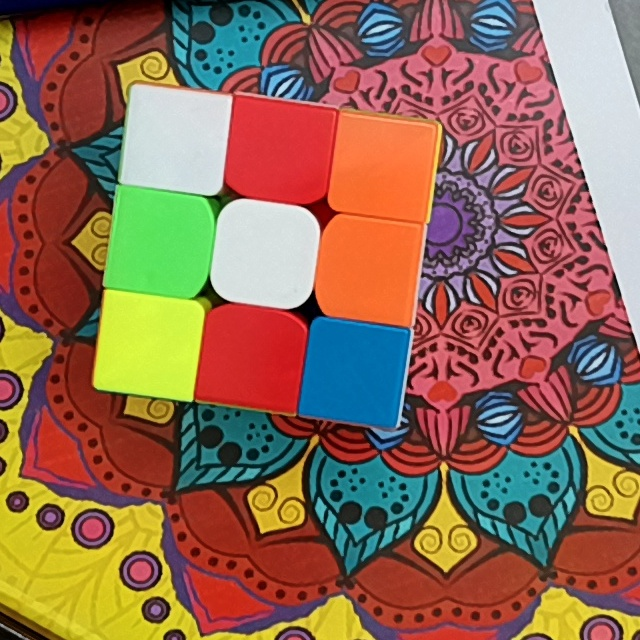tile: (133, 98, 219, 181), (223, 211, 305, 295), (330, 227, 413, 309), (119, 201, 199, 286), (342, 127, 424, 208), (107, 305, 189, 386), (237, 113, 321, 191), (316, 332, 396, 412), (214, 318, 293, 398)
